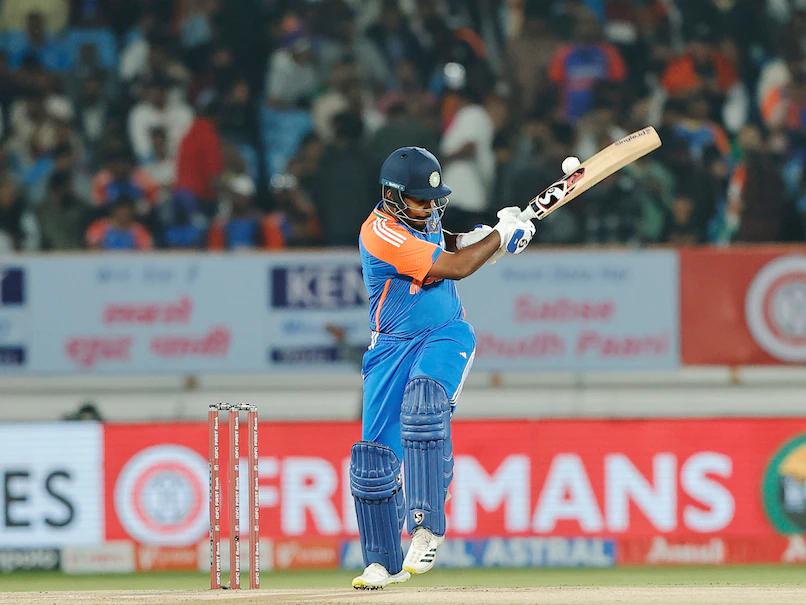Pullshot: (170, 0, 700, 605)
